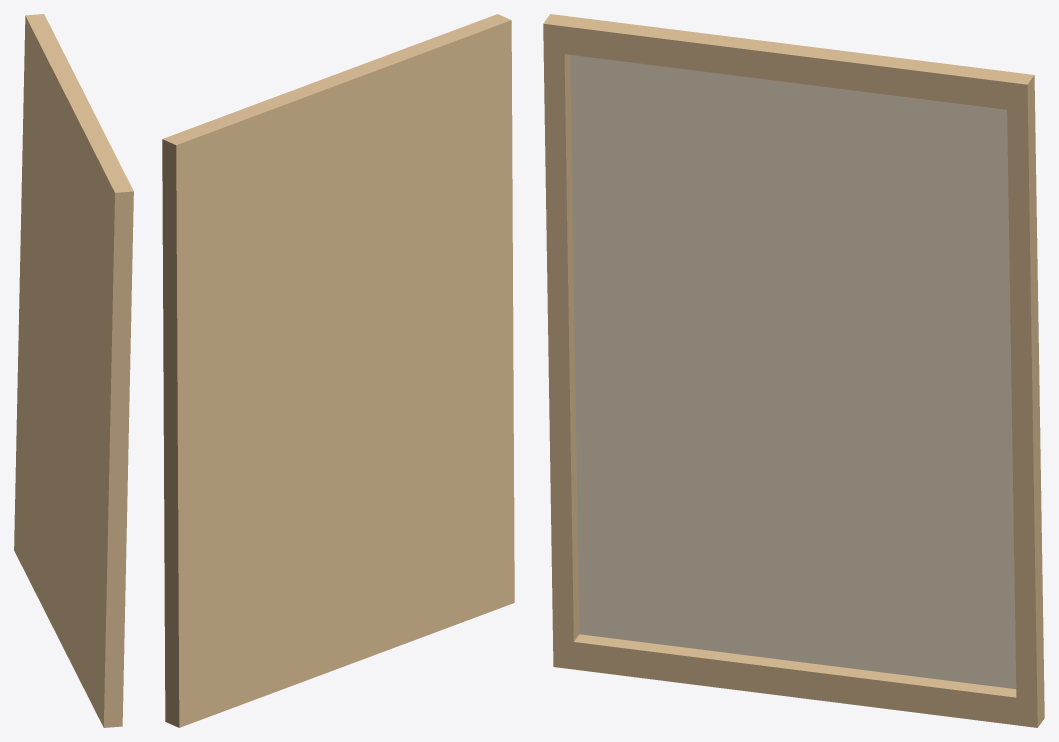
Rendered from MemorialRoom_Picture_frame 1.fbx.
3 views of the same model, side by side, from view 1: azimuth 30°, elevation 25°; view 2: azimuth 150°, elevation 25°; view 3: azimuth 270°, elevation 25° (orthographic). The views are drawn at different scales.
Visible parts, largest first — view 1: Picture; view 2: Picture; view 3: Picture.
Boxes of the visible parts, x1,y1,x2,y2 form: Picture: (14,14,133,727); Picture: (162,14,514,727); Picture: (543,14,1044,727).
Bounding box in the file's own units: 735 × 2833 × 1975.
